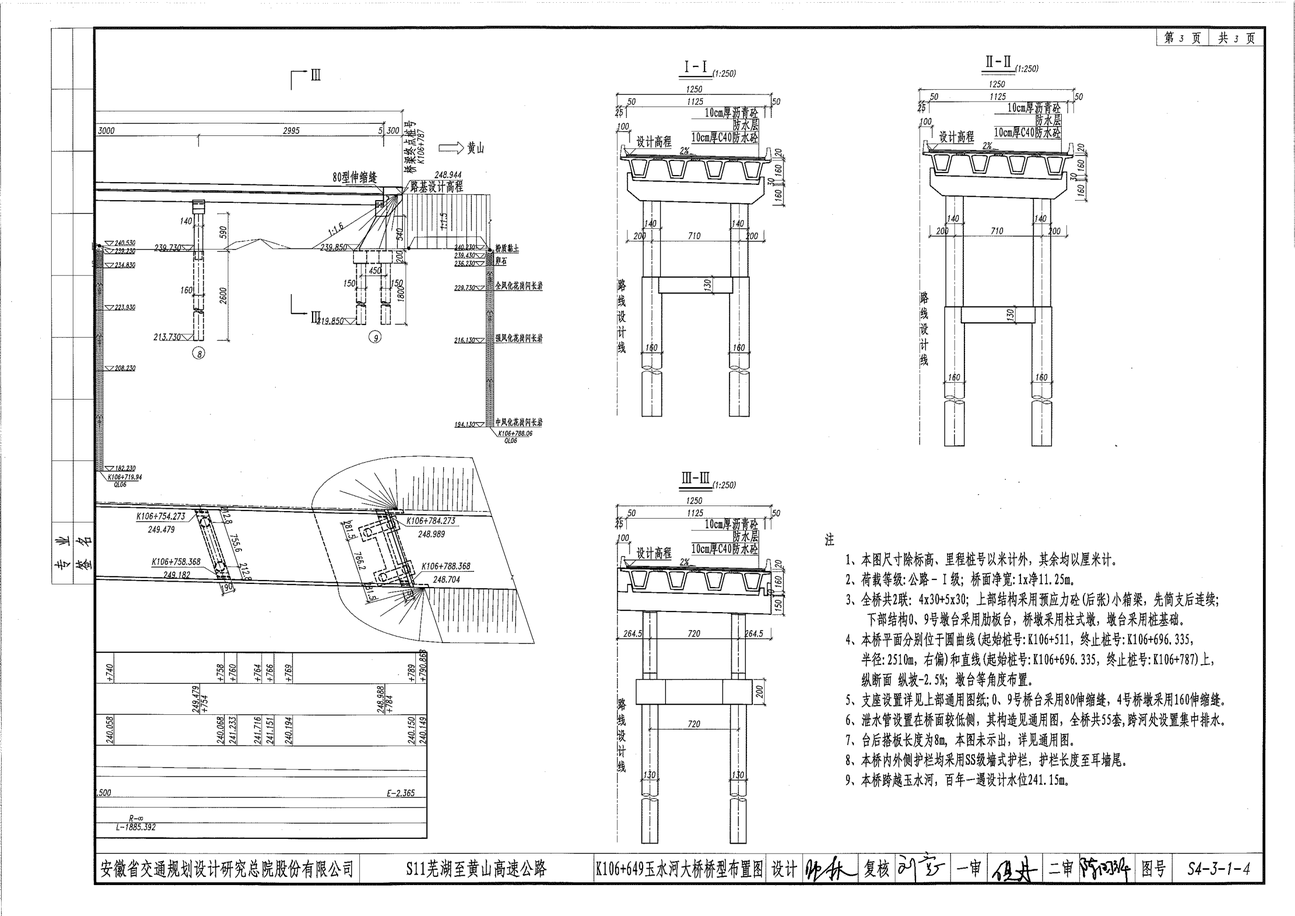A: (63, 63, 551, 381)
